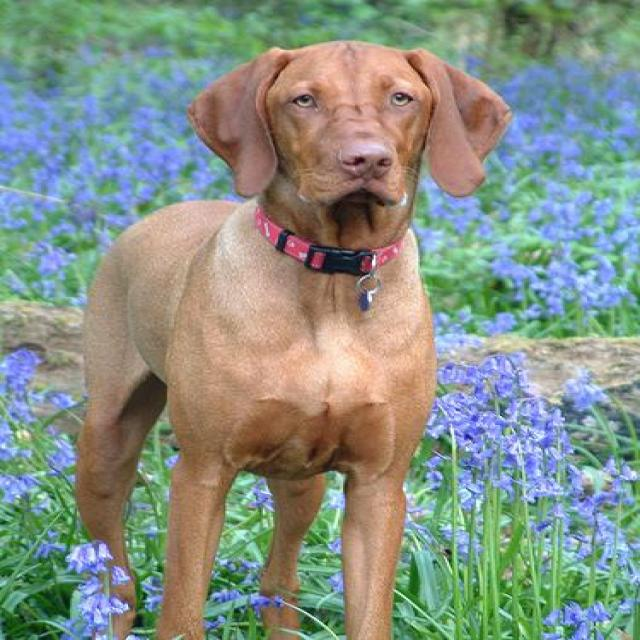vizsla: (77, 45, 507, 637)
